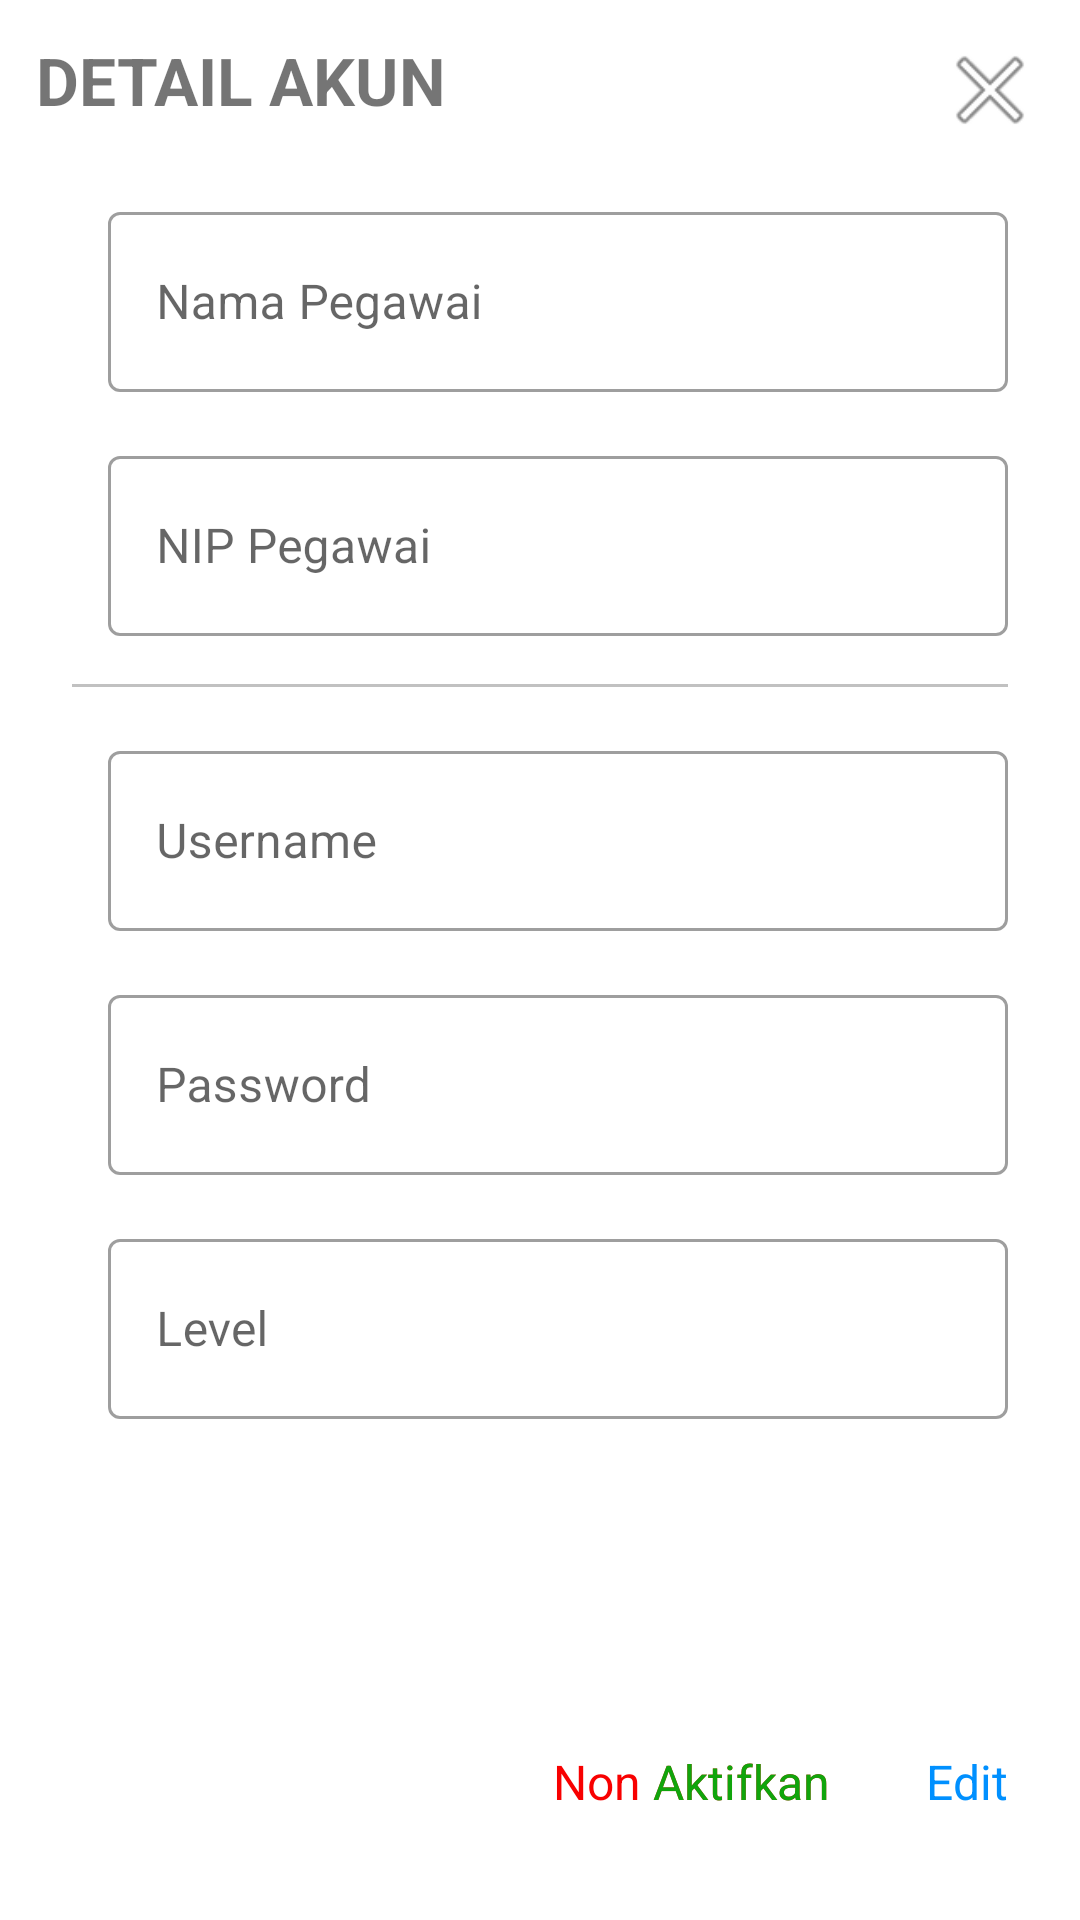

Screen size 1080*1920. Icon name, then its center in pixels as (x=x, y=y):
close clear cancel: (x=990, y=90)
